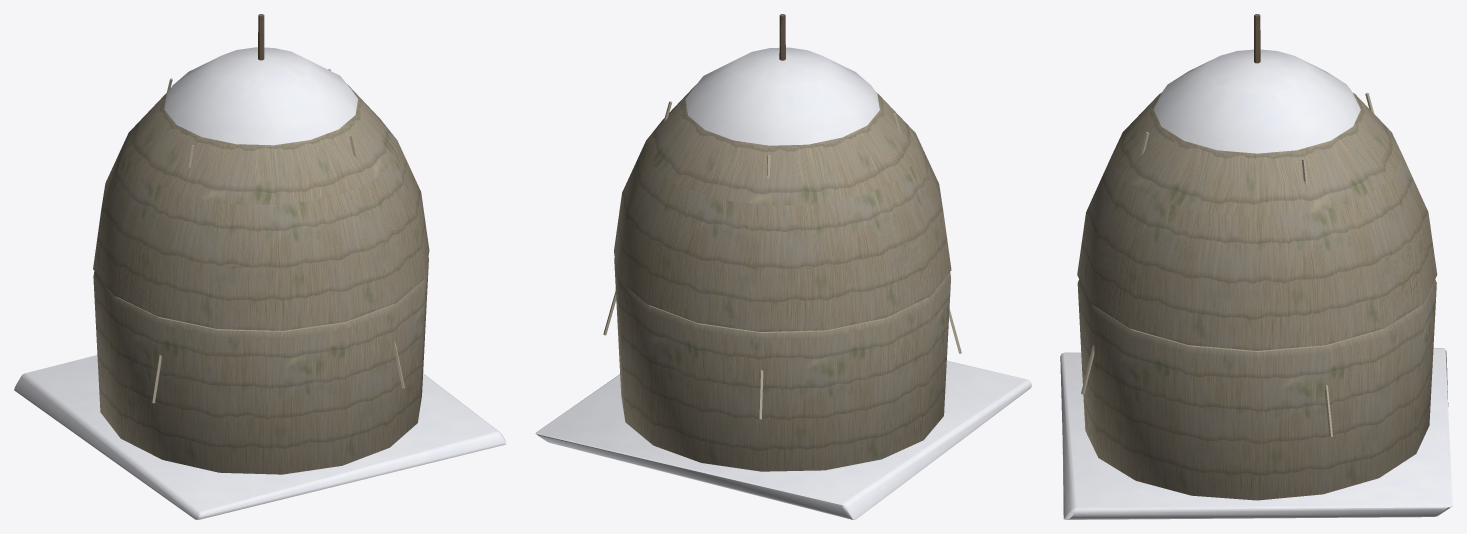
Rendered from farm_haystack.glb.
3 renders of one model, left to right at view 1: azimuth 30°, elevation 25°; view 2: azimuth 150°, elevation 25°; view 3: azimuth 270°, elevation 25°, orthographic. The views are drawn at different scales.
Parts seen in each view (by area): view 1: farm_haystack; view 2: farm_haystack; view 3: farm_haystack.
Part boxes in pixels (box(x1,y1,x2,y2)): farm_haystack: box(14, 14, 506, 519); farm_haystack: box(535, 14, 1031, 519); farm_haystack: box(1060, 14, 1452, 519).
Size of what is drawn, in the model's own units: 4.29 by 5.2 by 4.35.
4 materials, 4 textured.
